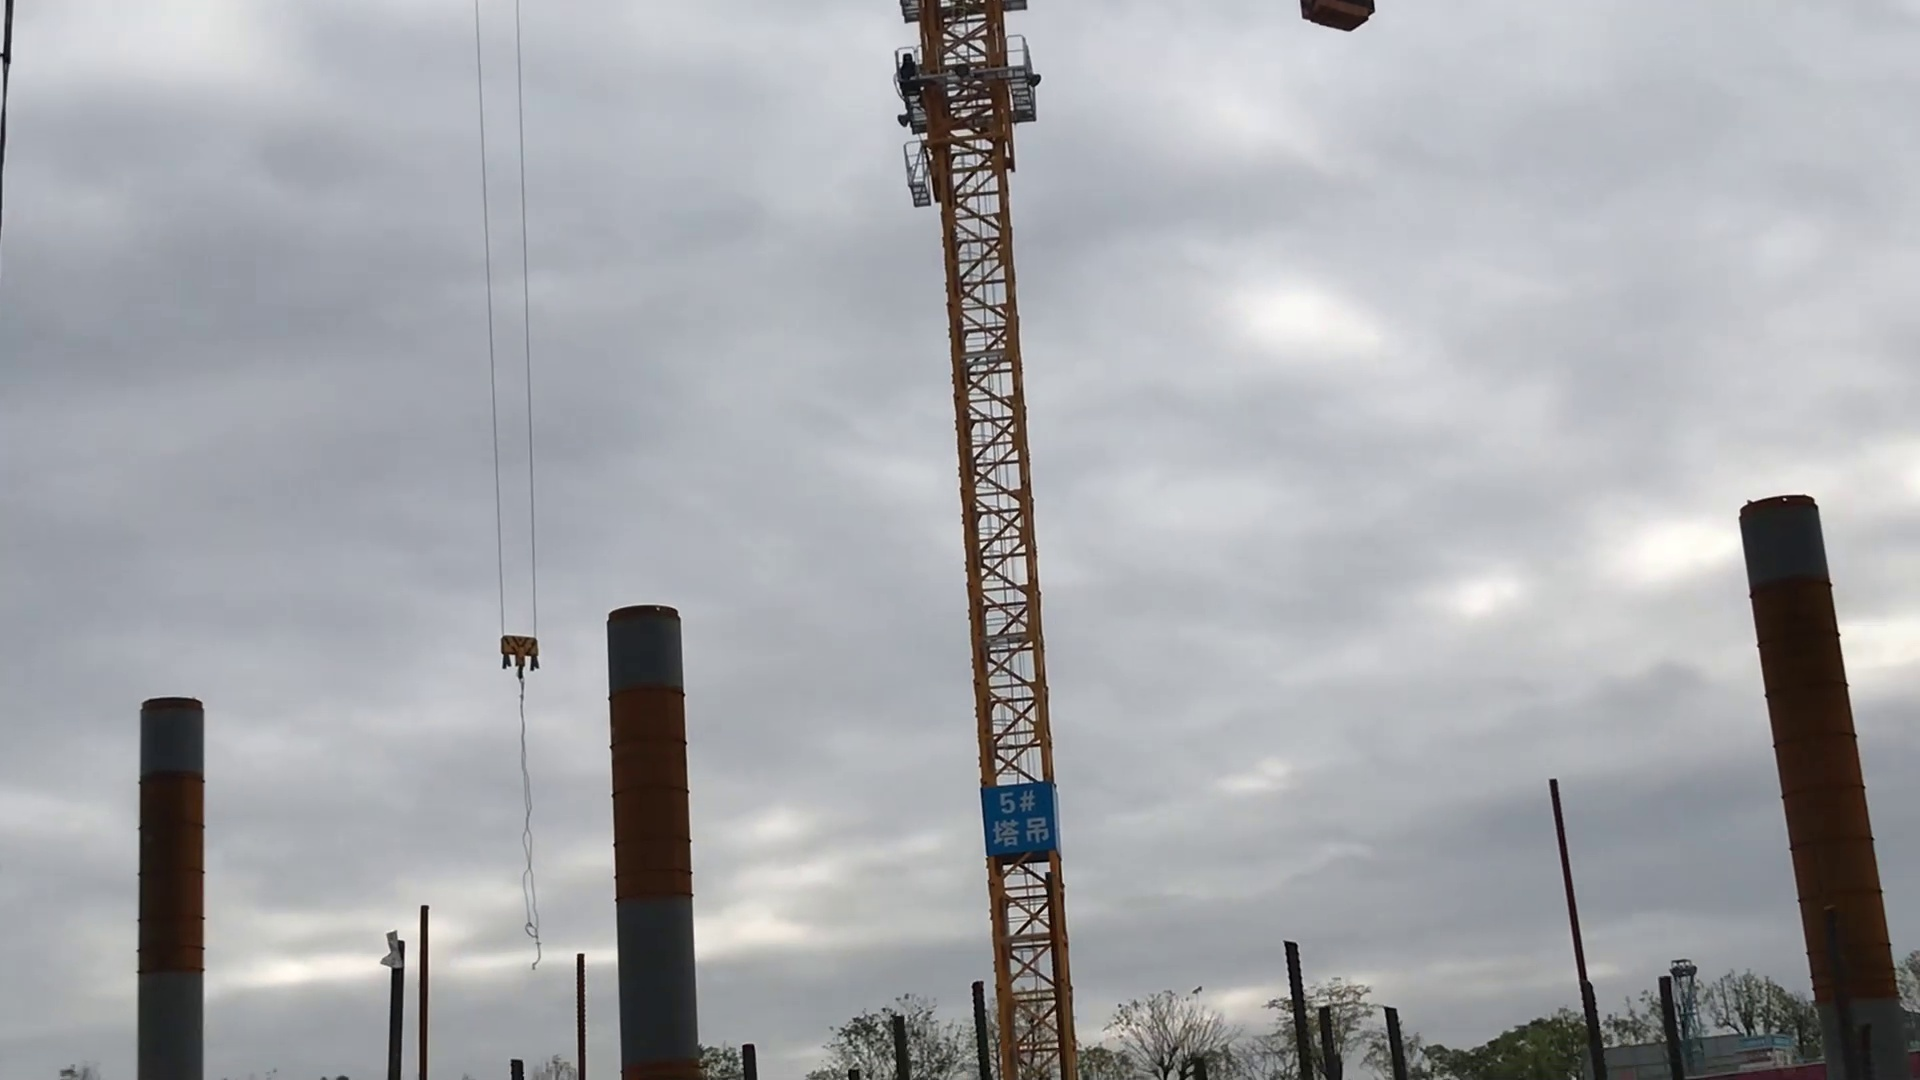hook: (495, 633, 545, 684)
slogan: (976, 778, 1063, 865)
